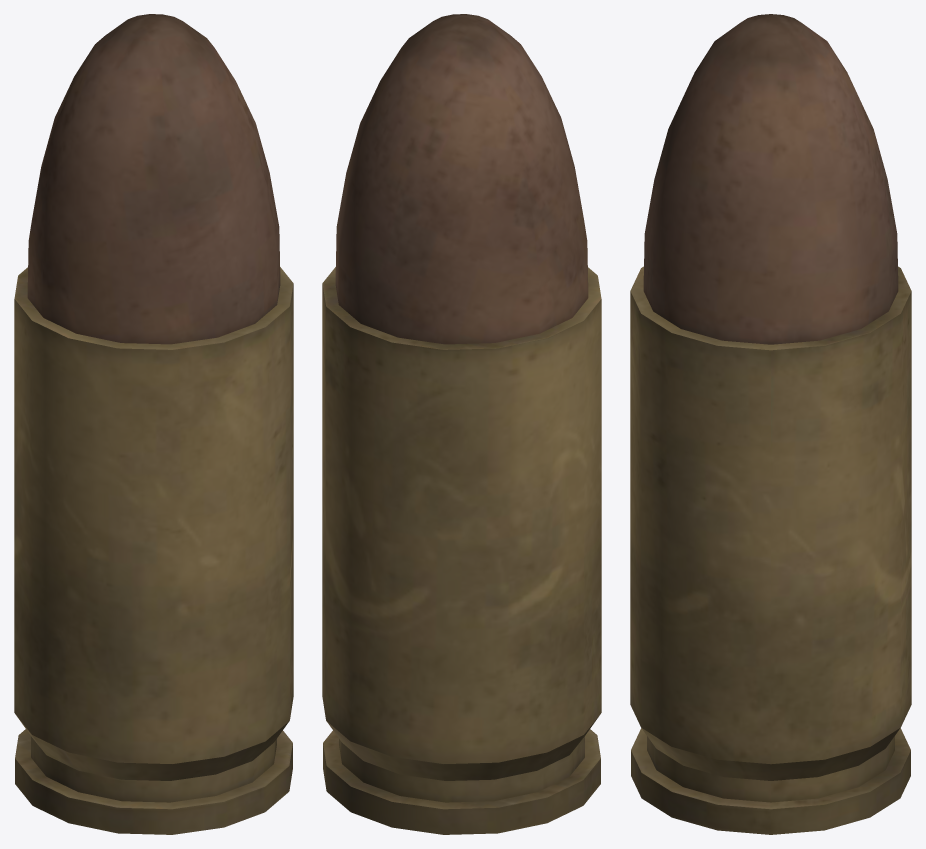
3 renders of one model, left to right at view 1: azimuth 30°, elevation 25°; view 2: azimuth 150°, elevation 25°; view 3: azimuth 270°, elevation 25°, orthographic.
Parts seen in each view (by area): view 1: 9mm; view 2: 9mm; view 3: 9mm.
Boxes of the visible parts, x1,y1,x2,y2 form: 9mm: (14, 14, 293, 834); 9mm: (322, 14, 601, 834); 9mm: (630, 14, 911, 834).
Bounding box in the file's own units: 0.1642 × 0.4882 × 0.1642.
Materials: 1 (1 with a texture image).
